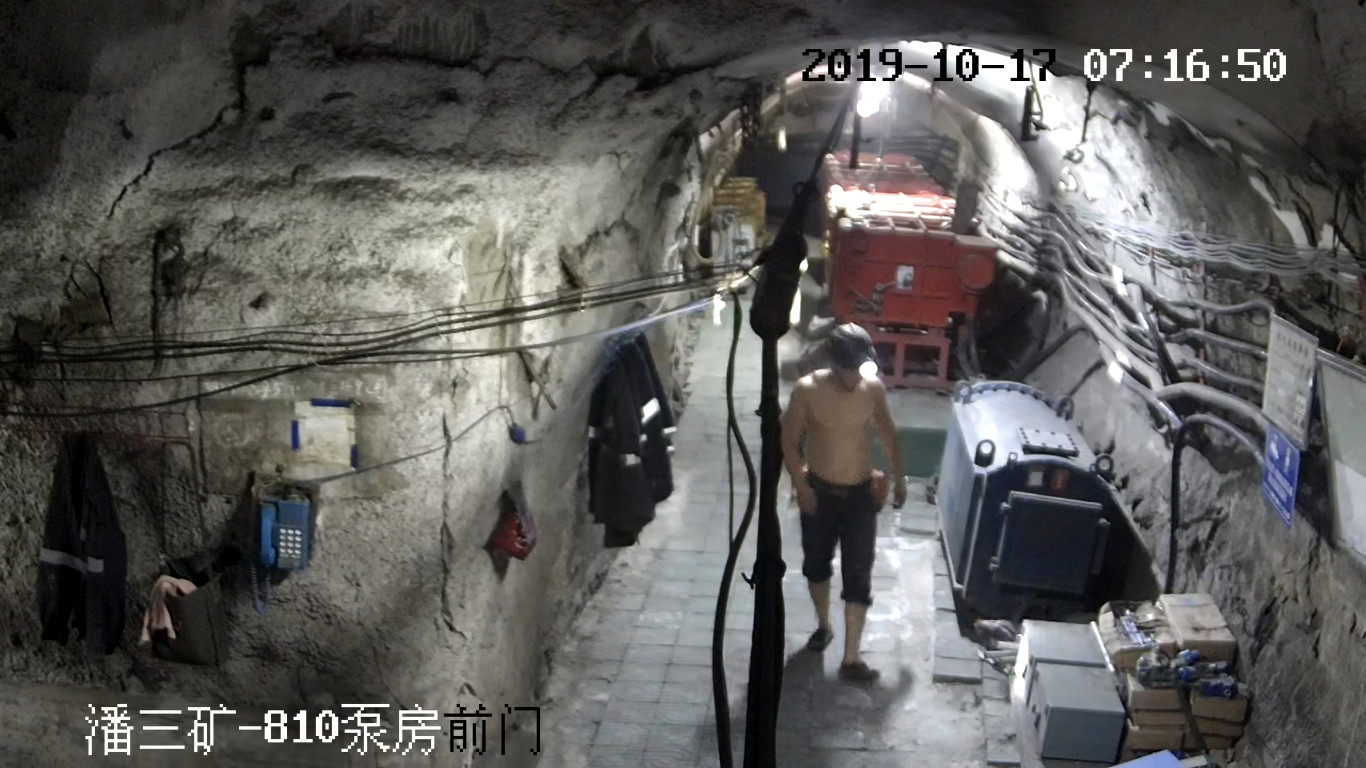helmet: (824, 320, 879, 380)
